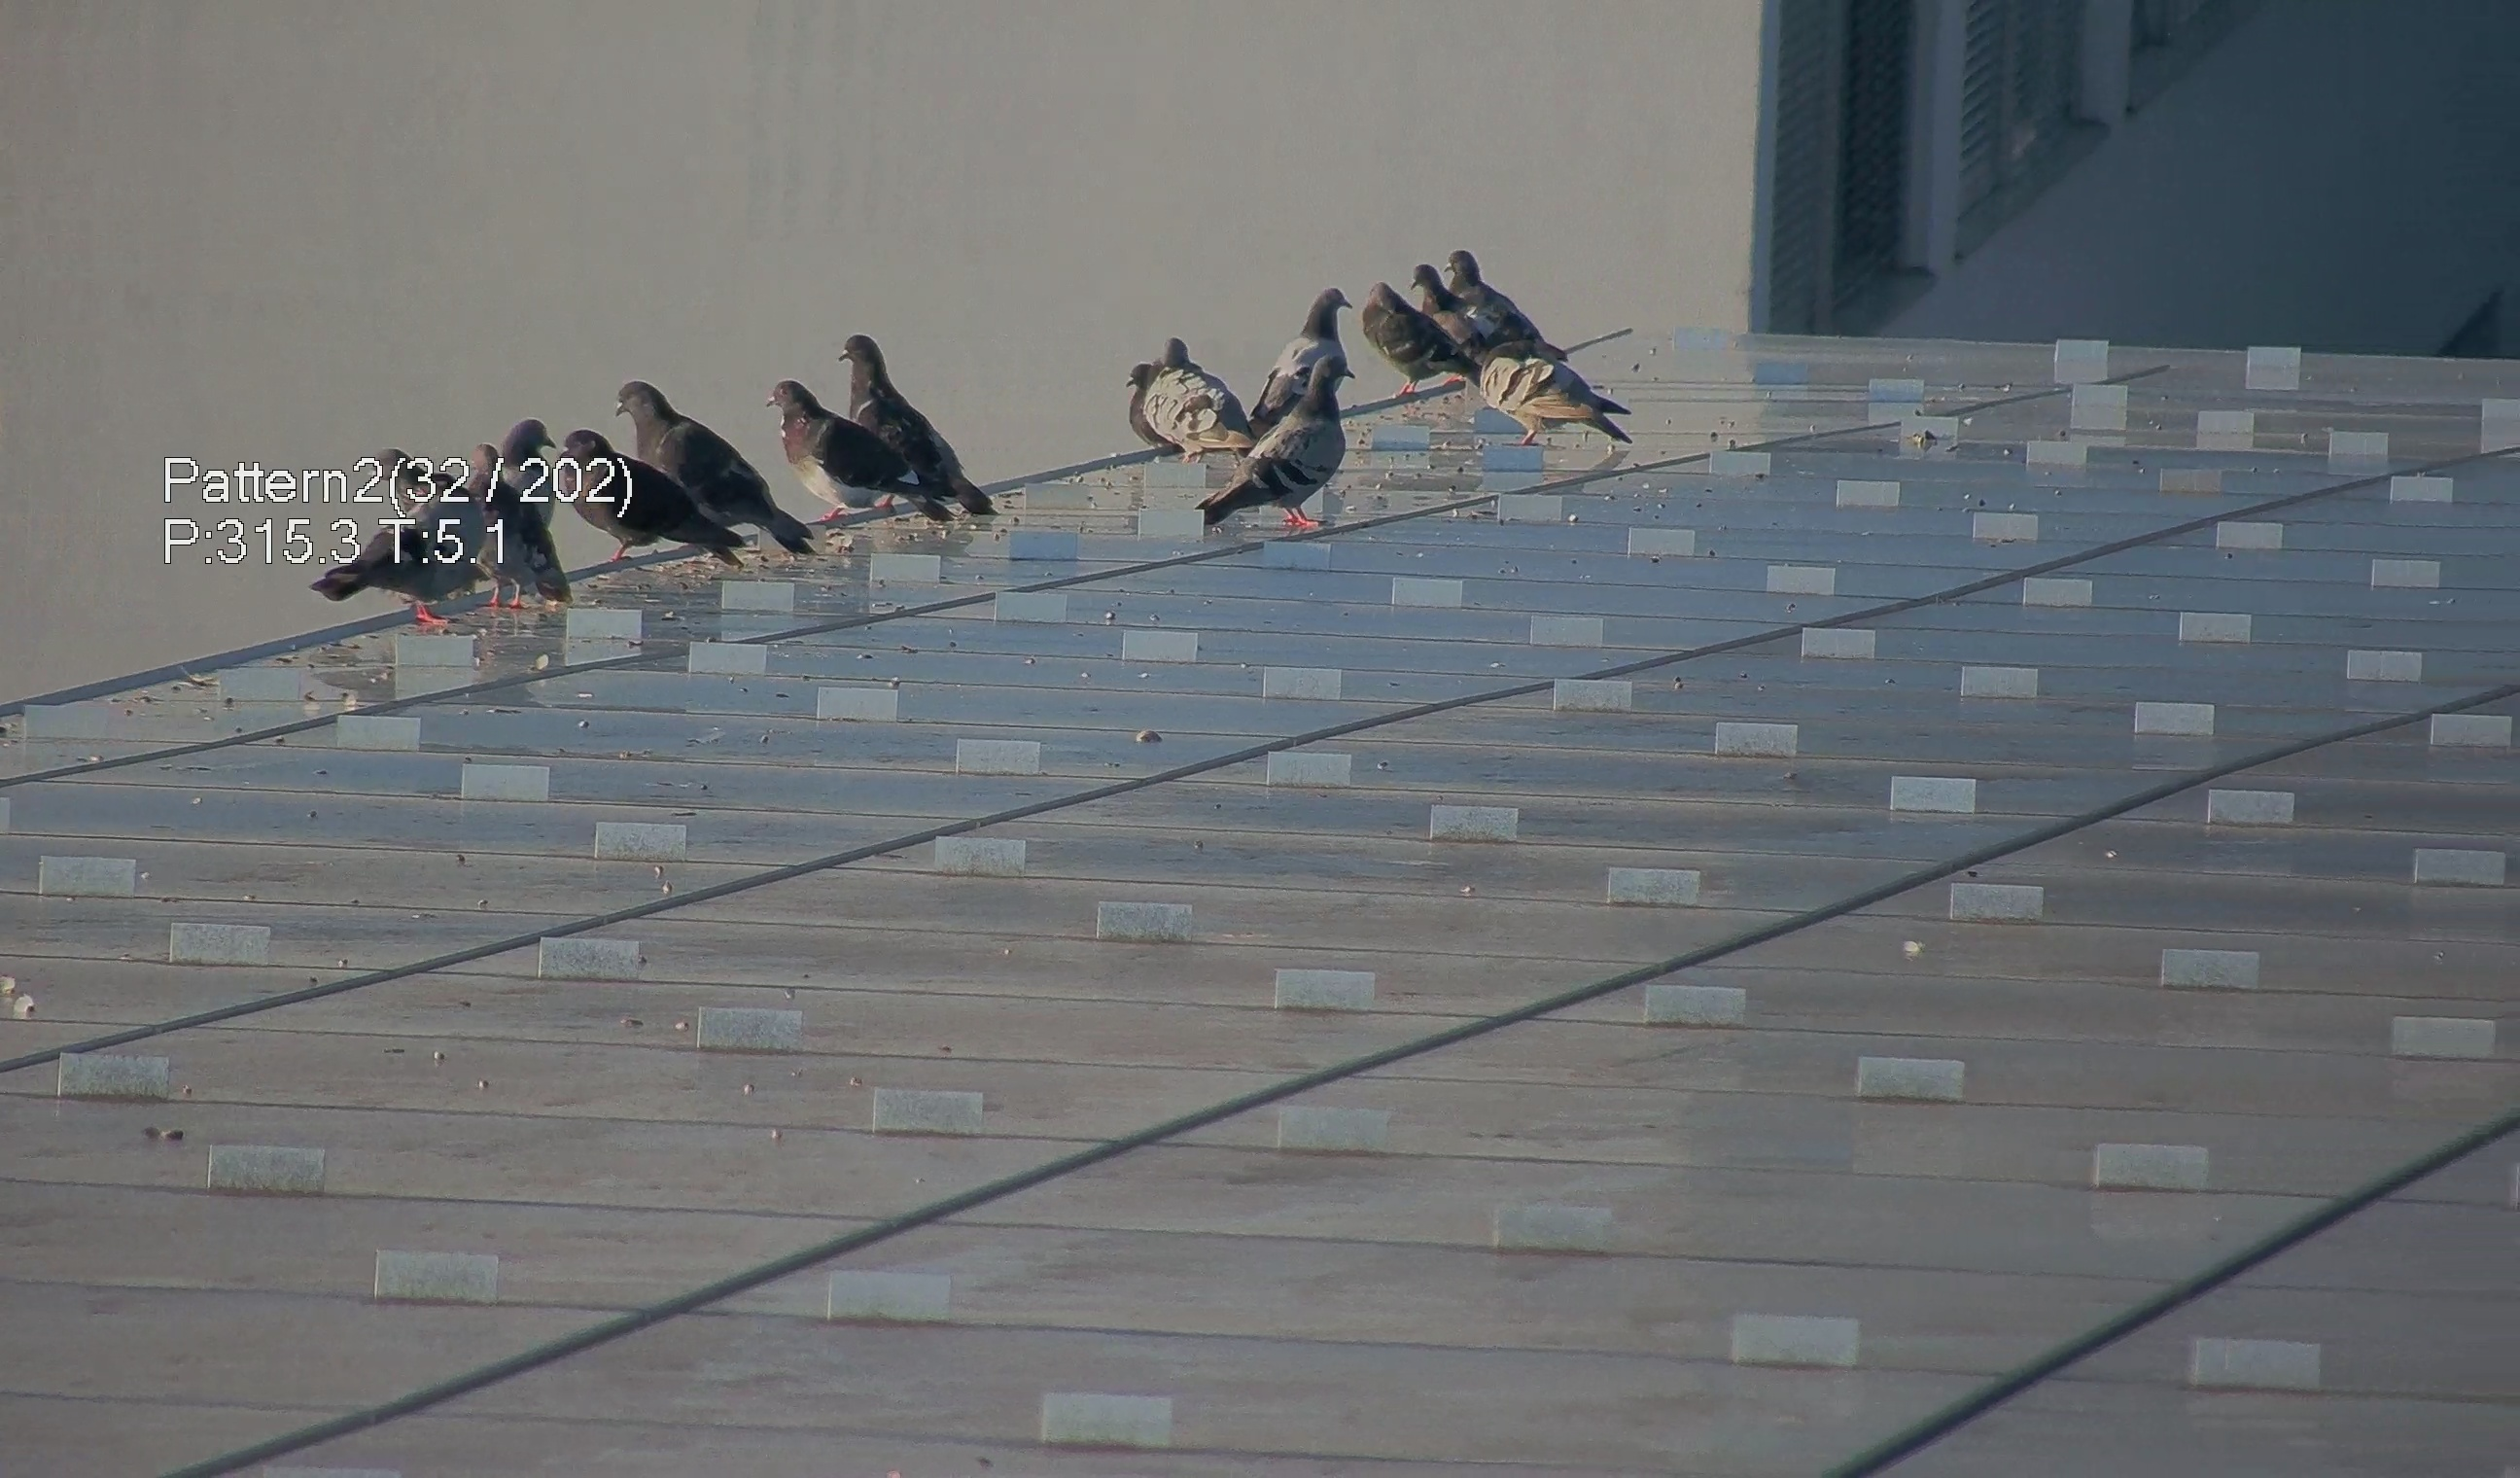Pigeon: (619, 382, 807, 565), (313, 445, 487, 640), (557, 426, 740, 593), (848, 329, 1001, 521), (760, 373, 927, 545), (1206, 364, 1358, 524), (468, 436, 563, 618), (1475, 345, 1623, 456), (1250, 280, 1349, 431), (1141, 333, 1259, 452), (1437, 243, 1546, 364), (1359, 278, 1475, 389), (1410, 255, 1488, 355), (494, 410, 549, 538), (1113, 355, 1164, 461)
